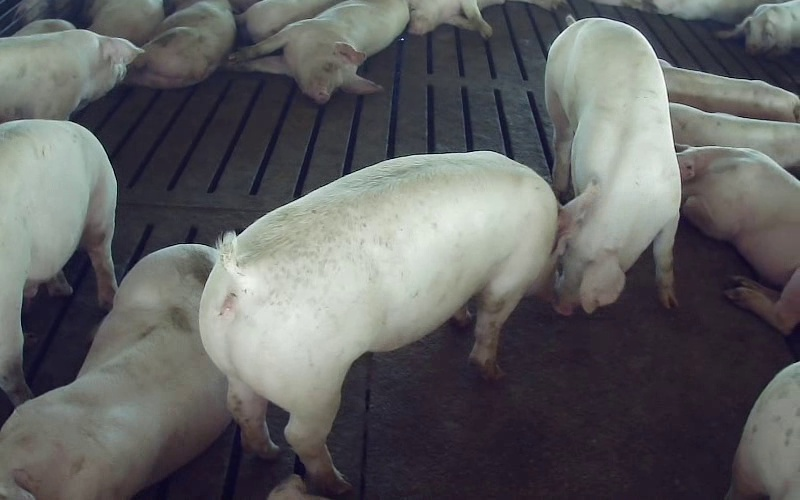pig: (199, 152, 557, 493), (0, 244, 230, 499), (545, 19, 680, 314), (678, 146, 799, 333), (0, 29, 142, 122), (660, 60, 799, 122), (669, 103, 799, 168)
